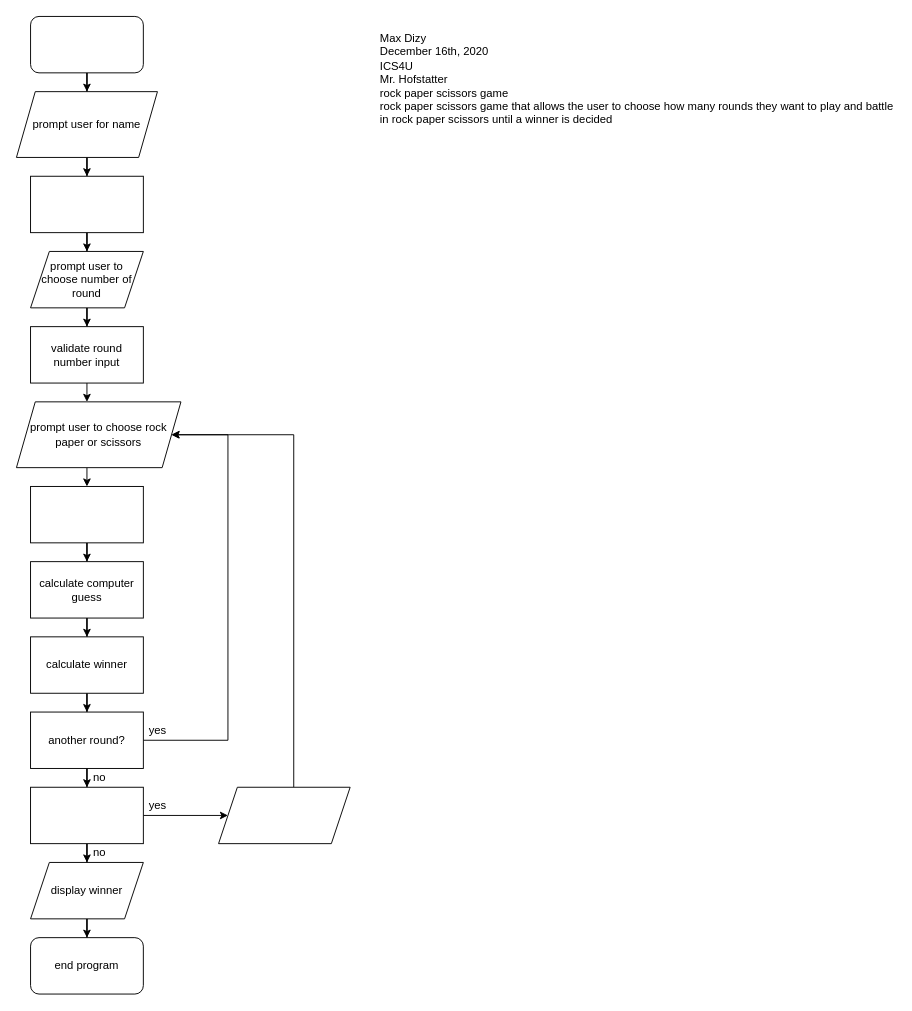
The diagram is 912 pixels wide and 1011 high, and some of its shapes have lost their labels. The box of each missing label's shape, as (x1, y1, x2, y2) in pixels:
is there a tie?: (30, 786, 143, 844)
notify user of a tie breaking round: (218, 786, 350, 844)
Start Program: (30, 16, 143, 73)
validate choice input: (30, 486, 143, 543)
validate name input: (30, 175, 143, 233)
